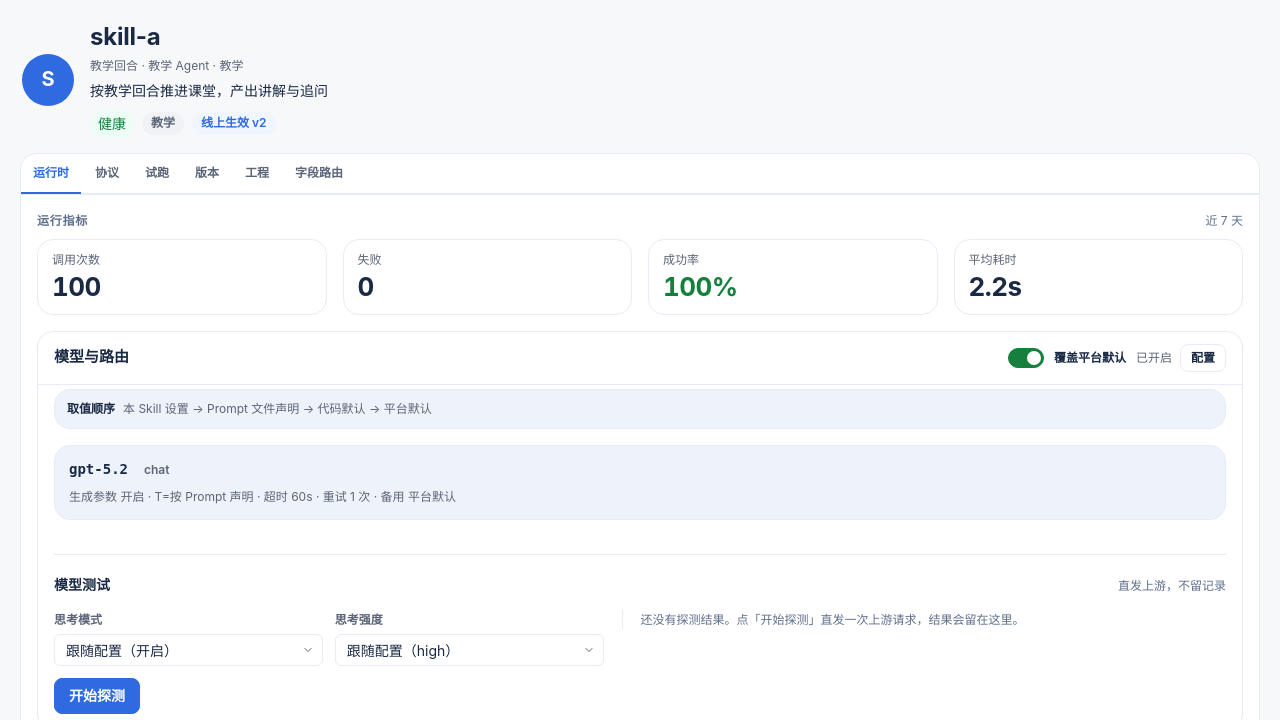
SkillDetail 详情页（renderSkillDetail 落点） › 字段路由页签：字段流转表格（角色人话/流向/渲染/属性）+ 下方字段路由设计区块；脱敏列无源不渲染
The width and height of the screenshot is (1280, 720).
Click the tab with class "mk-subtab" showing "字段路由" at (319, 174), box 283,154 -> 355,194
(page scrolled)
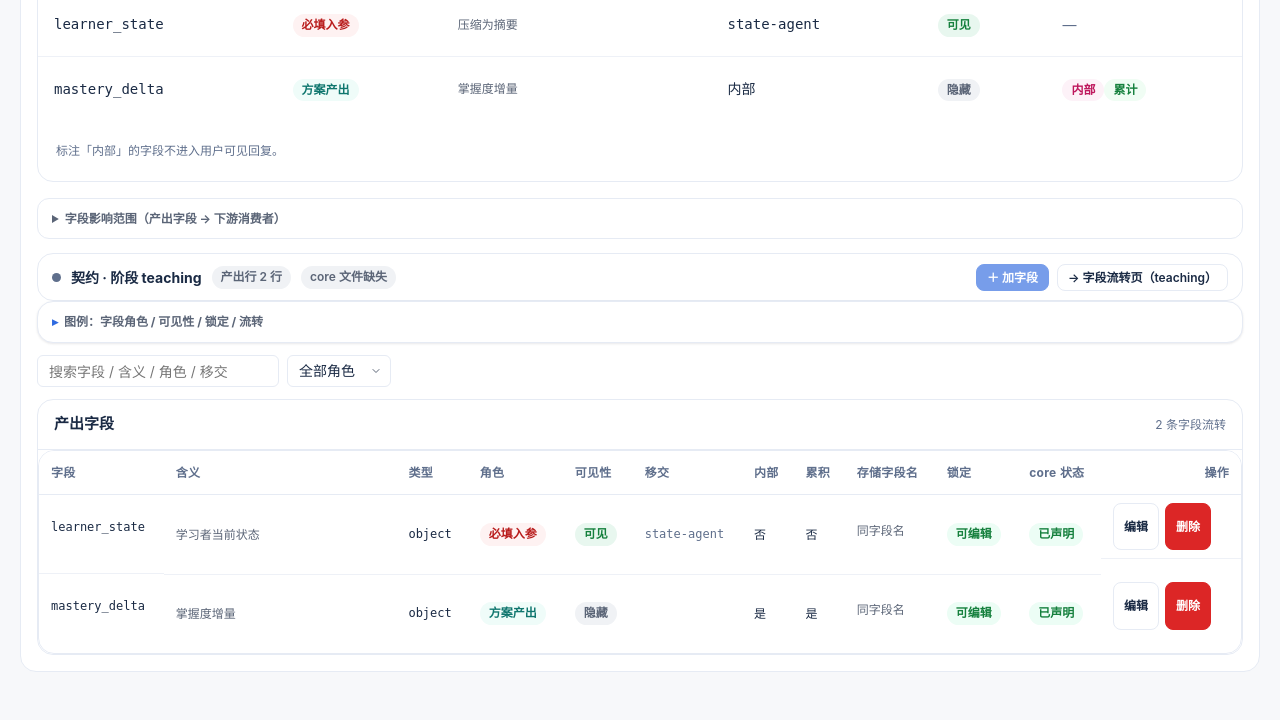
Now the row "mastery_delta 方案产出 掌握度增量 内部 隐藏 内部 累计" is shown, box 38,57 -> 1242,121
Now the element with class "sdp-routing" is shown, box 37,198 -> 1243,655
